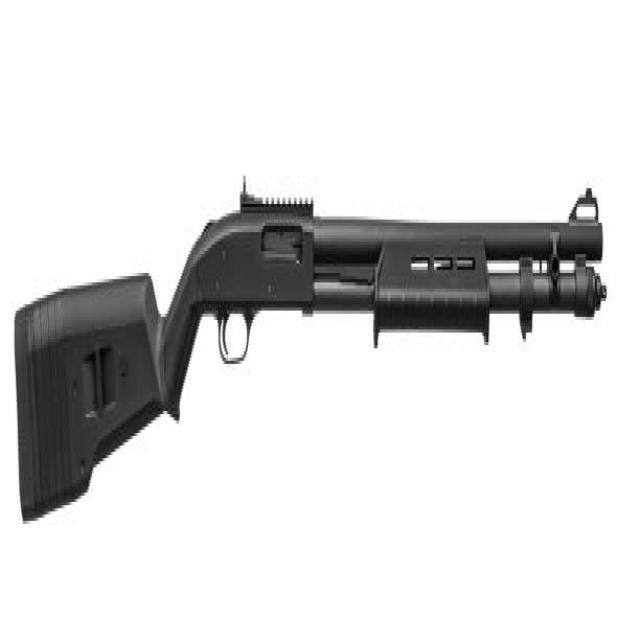rifle: (12, 177, 609, 532)
